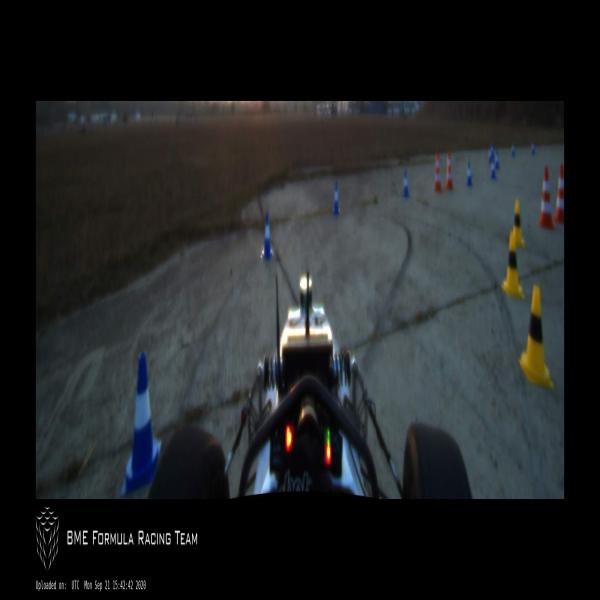blue_cone: (122, 352, 160, 490), (259, 210, 274, 260), (332, 179, 340, 216), (403, 172, 409, 198), (490, 157, 496, 180), (467, 160, 472, 186), (494, 150, 500, 170), (511, 140, 515, 157), (531, 141, 535, 155), (488, 147, 491, 163)
large_orange_cone: (538, 166, 554, 231), (554, 164, 564, 223), (434, 151, 442, 192), (446, 149, 454, 189)
yellow_cone: (520, 288, 554, 390), (503, 231, 523, 297), (512, 200, 526, 249)
